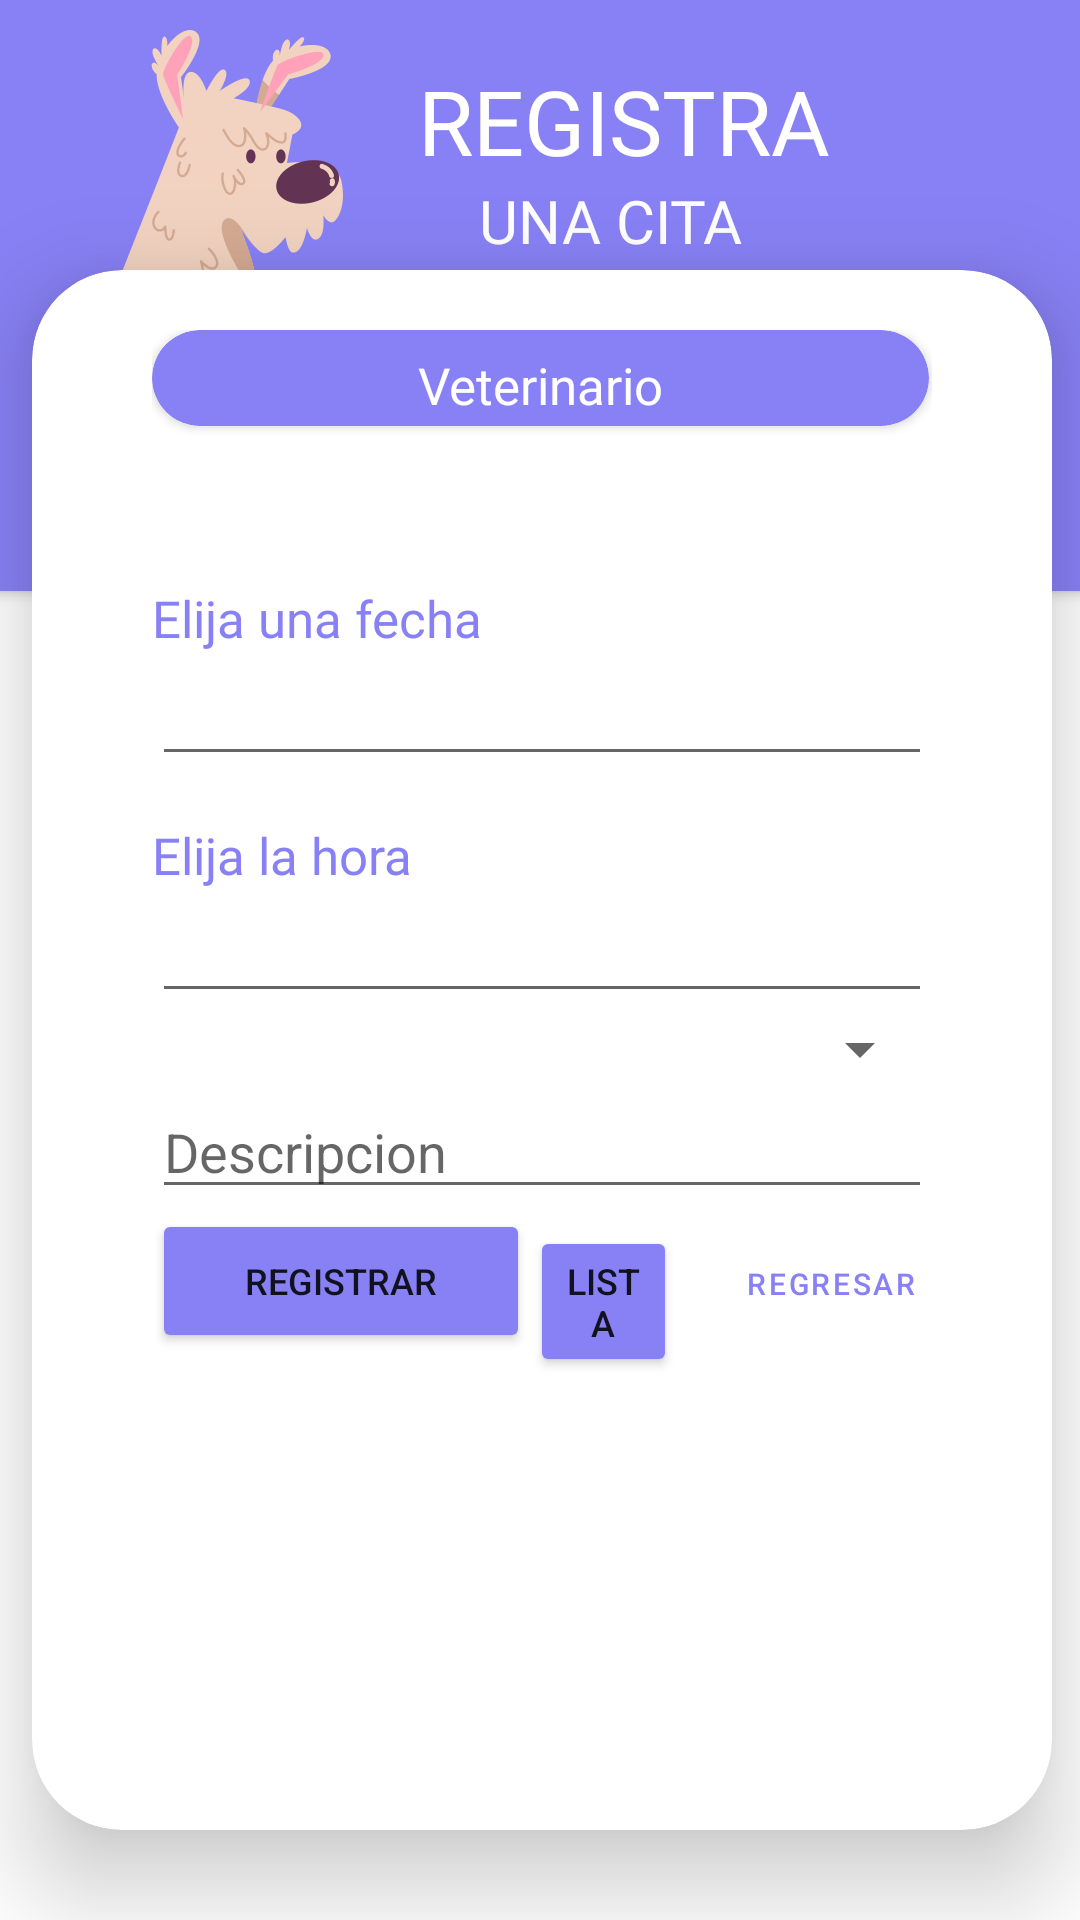

Where to tap for icons on this 1080x1920 app screen, as (x=x, y=y):
perroblanco: (x=212, y=202)
